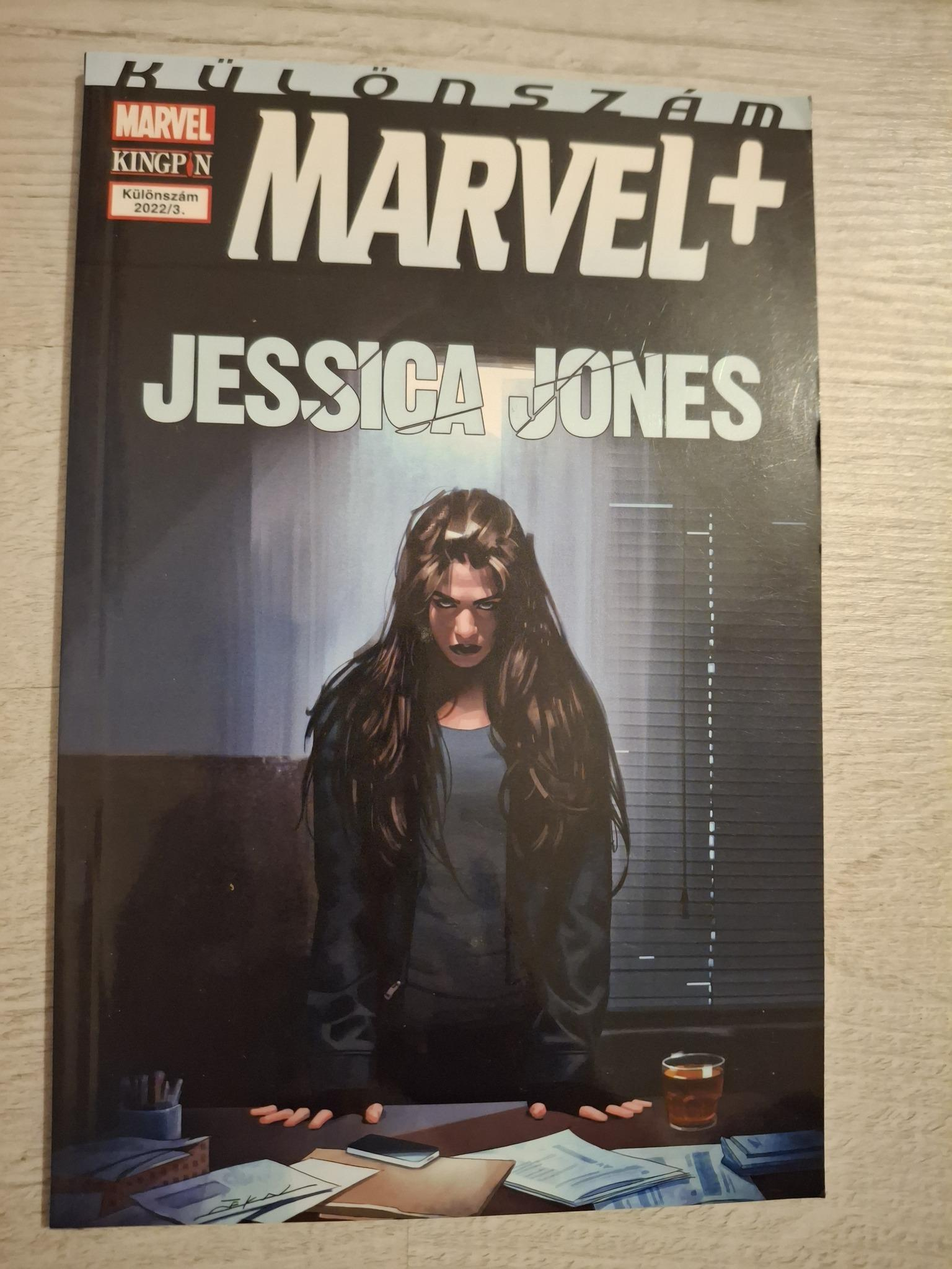comic: (52, 54, 835, 1229)
